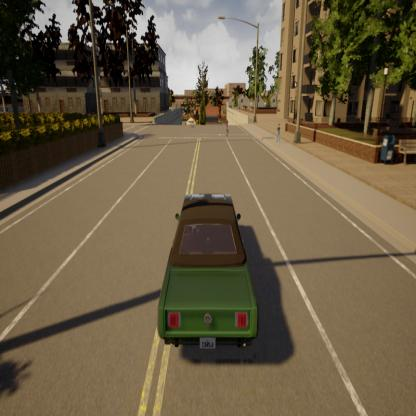Cars: (145, 190, 271, 362)
Pedestrian: (274, 120, 285, 148), (223, 116, 232, 141)
